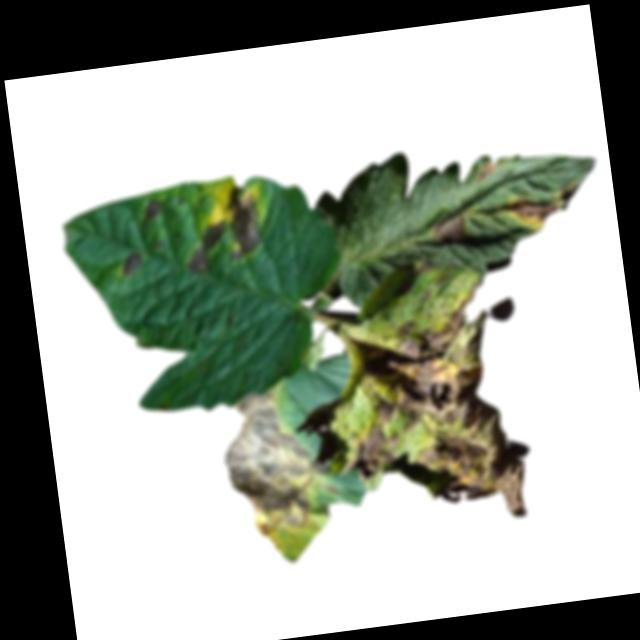Early_blight: (341, 302, 528, 535), (221, 383, 323, 541), (175, 184, 265, 276), (505, 194, 561, 231), (428, 209, 467, 242), (117, 247, 145, 277), (475, 158, 499, 184), (137, 198, 161, 220), (412, 257, 438, 277)
